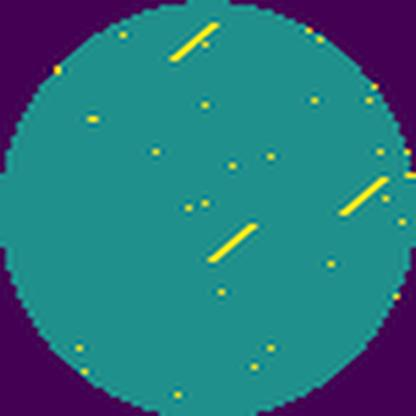Scratch: (336, 171, 391, 222), (165, 19, 222, 68), (203, 216, 260, 265)
